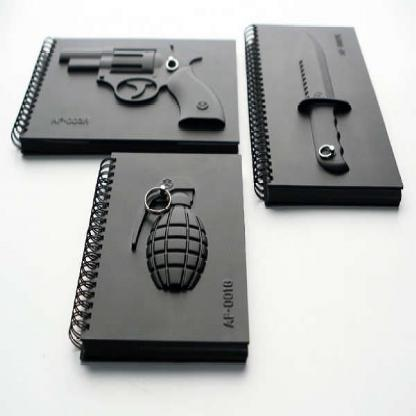Grenade: (131, 174, 208, 296)
Knife: (296, 24, 354, 173)
Pistol: (58, 43, 230, 132)
